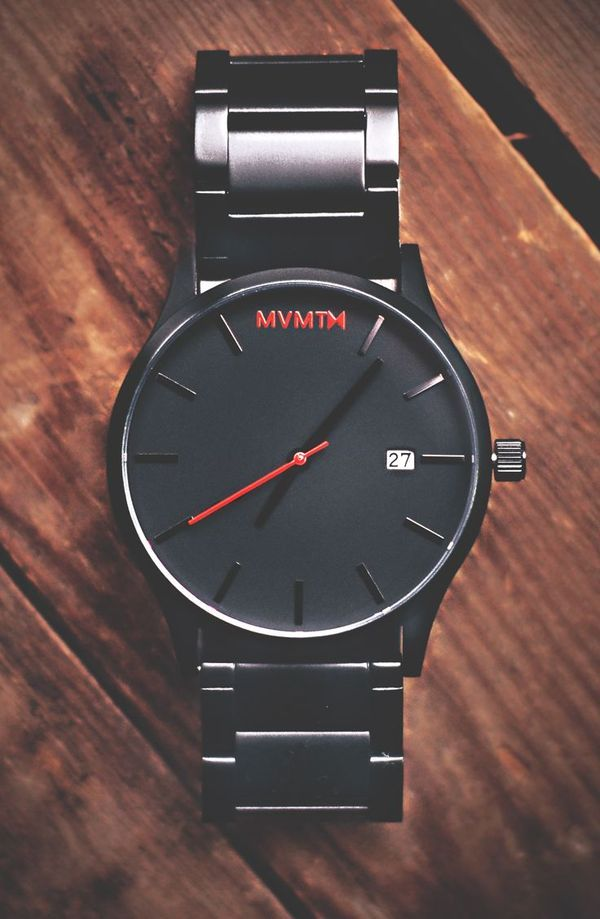clock: (110, 267, 498, 657)
